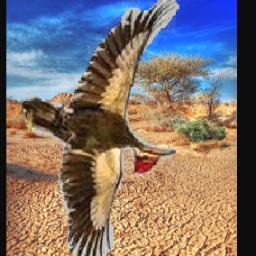Woodpecker: (19, 0, 179, 256)
